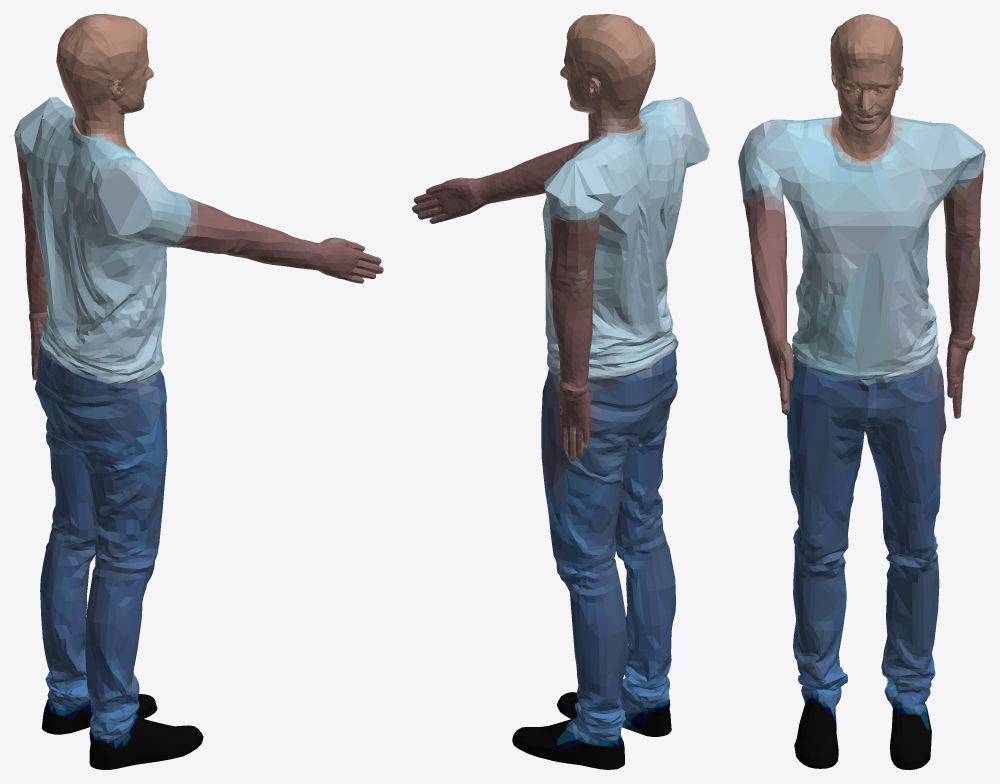
Rendered from personMaleCasual.dae.
3 renders of one model, left to right at view 1: azimuth 30°, elevation 25°; view 2: azimuth 150°, elevation 25°; view 3: azimuth 270°, elevation 25°, orthographic.
Visible parts, largest first — view 1: personMaleCasual; view 2: personMaleCasual; view 3: personMaleCasual.
Part boxes in pixels (x1,y1,x2,y2): personMaleCasual: (14, 14, 383, 769); personMaleCasual: (412, 14, 709, 769); personMaleCasual: (738, 14, 985, 769).
Bounding box in the file's own units: 0.7877 × 0.5843 × 1.87.
